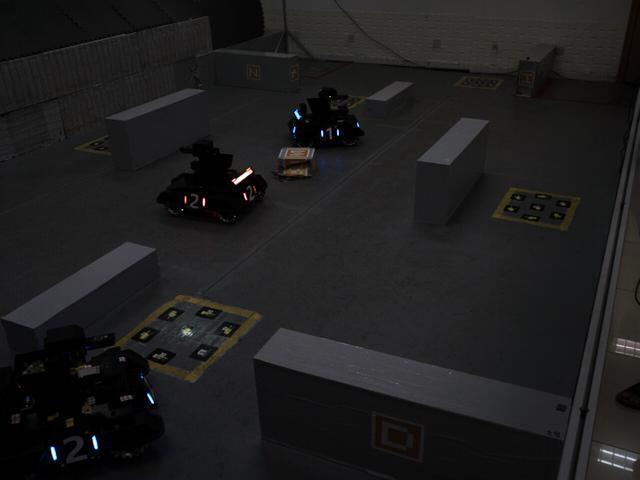armor: (43, 431, 103, 469), (178, 187, 211, 214), (314, 121, 343, 144), (241, 181, 262, 206)
